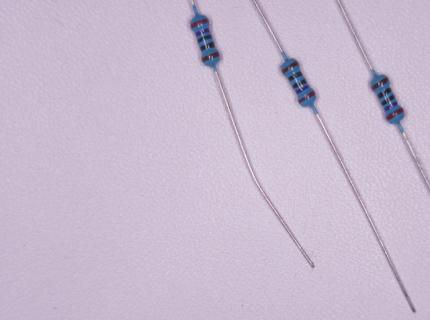Black band: (377, 87, 392, 99), (381, 94, 396, 106), (287, 71, 303, 82), (200, 41, 215, 51), (292, 79, 307, 89), (197, 34, 212, 43)
Brown band: (281, 61, 299, 74), (371, 77, 389, 90), (201, 52, 220, 63)
Red band: (298, 90, 316, 104), (386, 107, 404, 121), (191, 19, 209, 29)
Violet band: (384, 101, 398, 112), (296, 85, 310, 95), (195, 28, 210, 37)
